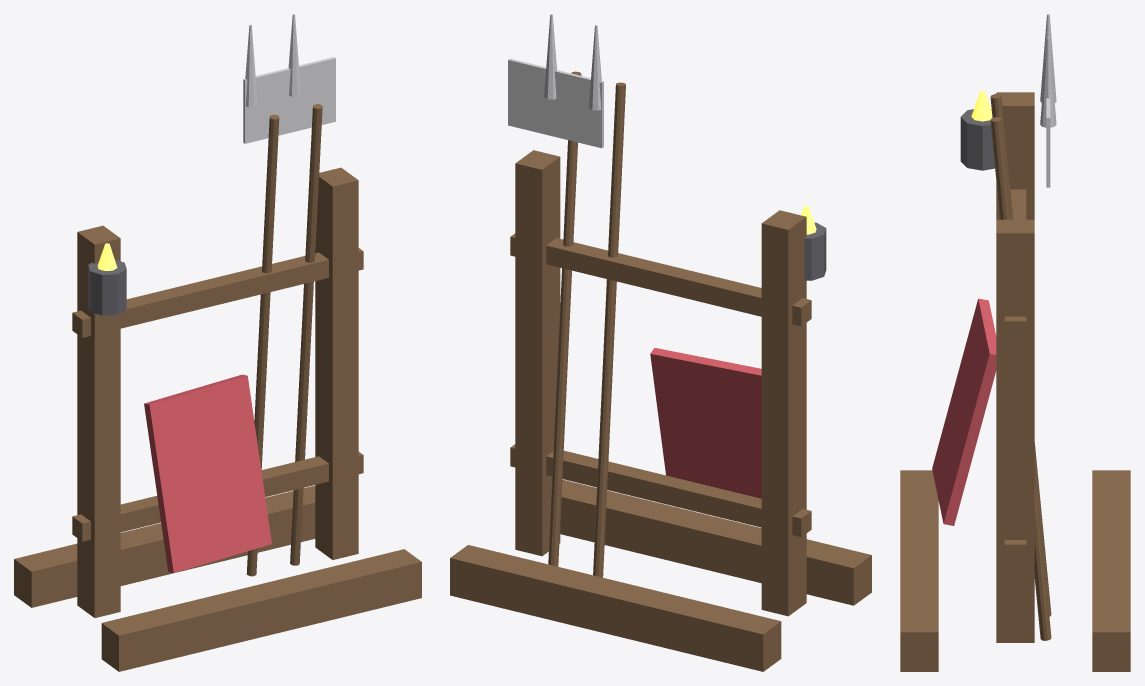
The model's file is guard_post.glb.
The picture shows the model from 3 angles, left to right: view 1: azimuth 30°, elevation 25°; view 2: azimuth 150°, elevation 25°; view 3: azimuth 270°, elevation 25°; orthographic projection. The views are drawn at different scales.
Visible parts, largest first — view 1: Cube.006, Cube, Cube.003, Cube.002, Cube.001, Cube.005, Cylinder.002, Cylinder.001, Cube.004, Cube.007, Cube.008, Cylinder.003 (+2 smaller); view 2: Cube.001, Cube.002, Cube.003, Cube, Cube.006, Cube.005, Cube.004, Cylinder.001, Cylinder.002, Cube.007, Cube.008, Cylinder.003 (+2 smaller); view 3: Cube.003, Cube.001, Cube, Cube.006, Cube.002, Cylinder.002, Cylinder.003, Cylinder.001, Cube.005, Cone.001, Cube.004, Cube.008 (+2 smaller).
Part boxes in pixels (left/top/right/bottom): Cube.006: left=144, top=374, right=271, bottom=572; Cube: left=101, top=549, right=421, bottom=671; Cube.003: left=315, top=167, right=358, bottom=559; Cube.002: left=77, top=225, right=120, bottom=617; Cube.001: left=14, top=485, right=315, bottom=607; Cube.005: left=72, top=248, right=363, bottom=337; Cylinder.002: left=290, top=104, right=322, bottom=565; Cylinder.001: left=246, top=114, right=279, bottom=576; Cube.004: left=72, top=452, right=363, bottom=541; Cube.007: left=243, top=68, right=292, bottom=143; Cube.008: left=292, top=57, right=335, bottom=131; Cylinder.003: left=88, top=259, right=126, bottom=315; Cube.001: left=450, top=545, right=781, bottom=671; Cube.002: left=761, top=210, right=806, bottom=616; Cube.003: left=515, top=150, right=560, bottom=556; Cube: left=560, top=479, right=871, bottom=605; Cube.006: left=650, top=347, right=761, bottom=498; Cube.005: left=510, top=233, right=811, bottom=326; Cube.004: left=510, top=444, right=811, bottom=536; Cylinder.001: left=593, top=82, right=625, bottom=577; Cylinder.002: left=548, top=71, right=581, bottom=566; Cube.007: left=552, top=70, right=603, bottom=148; Cube.008: left=508, top=58, right=557, bottom=136; Cylinder.003: left=804, top=222, right=826, bottom=280; Cube.003: left=996, top=219, right=1034, bottom=642; Cube.001: left=1092, top=470, right=1130, bottom=671; Cube: left=900, top=470, right=938, bottom=671; Cube.006: left=932, top=298, right=996, bottom=525; Cube.002: left=996, top=92, right=1034, bottom=219; Cylinder.002: left=990, top=117, right=1051, bottom=640; Cylinder.003: left=960, top=109, right=994, bottom=170; Cylinder.001: left=990, top=94, right=1051, bottom=616; Cube.005: left=1004, top=189, right=1026, bottom=340; Cone.001: left=1040, top=37, right=1056, bottom=127; Cube.004: left=1004, top=540, right=1026, bottom=564; Cube.008: left=1046, top=98, right=1050, bottom=187.
Bounding box in the file's own units: 1.4 × 2.42 × 0.84.
